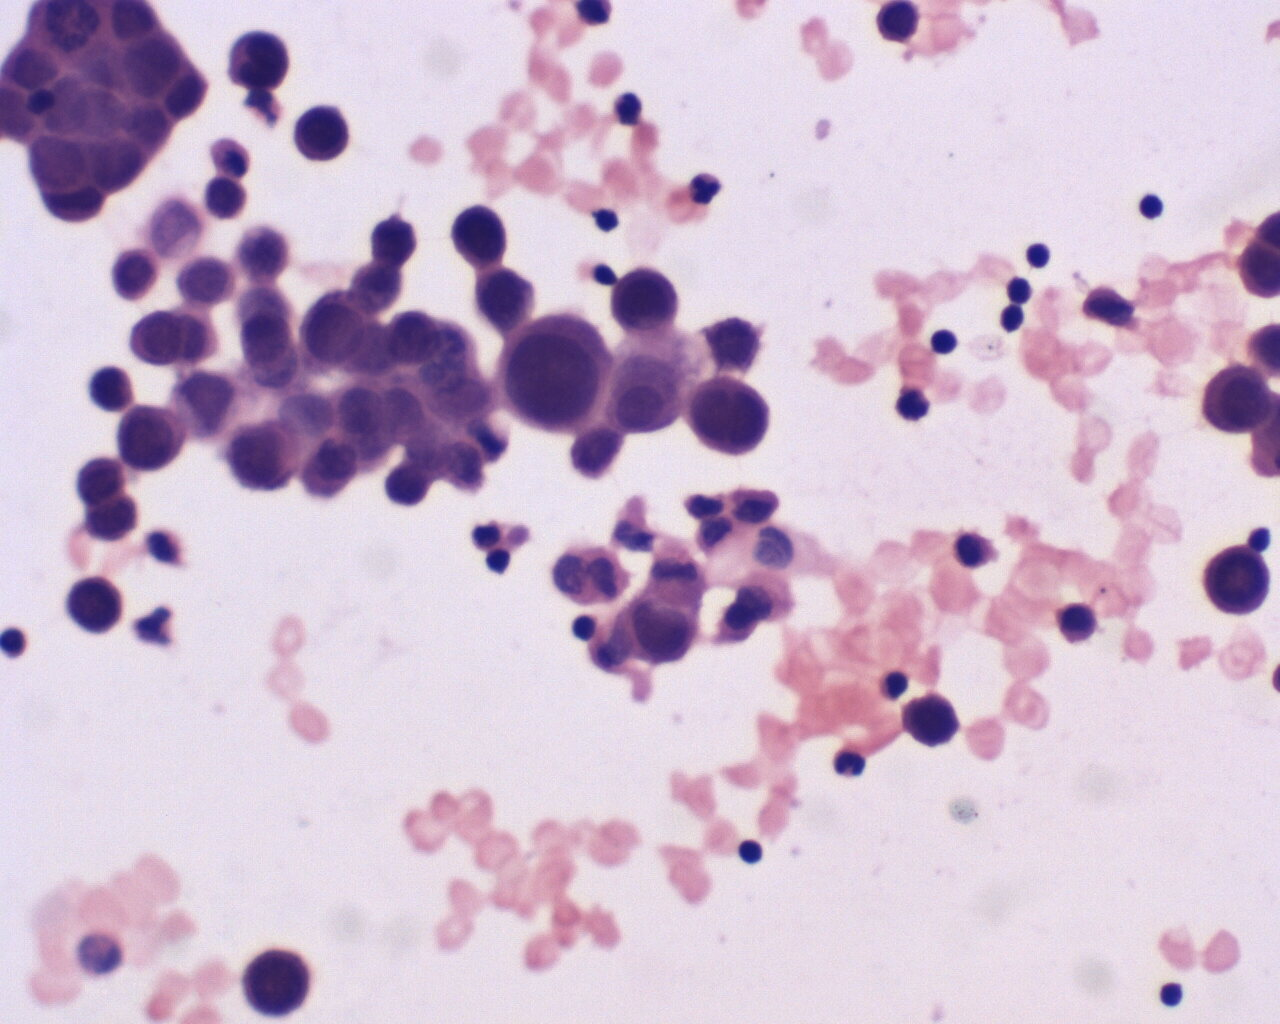ab: (496, 312, 614, 435), (693, 369, 774, 464), (298, 285, 377, 370), (1196, 359, 1273, 439), (243, 942, 318, 1024), (606, 263, 684, 339), (225, 420, 300, 497), (1198, 543, 1273, 619), (226, 24, 304, 94), (441, 200, 513, 269), (118, 403, 186, 475), (125, 303, 195, 372)
lymph: (1131, 183, 1169, 229), (926, 322, 965, 366), (1154, 972, 1191, 1016), (1020, 237, 1057, 277), (736, 832, 765, 876)
meso: (603, 349, 689, 435)
neutro: (688, 164, 735, 212), (828, 744, 877, 784)
